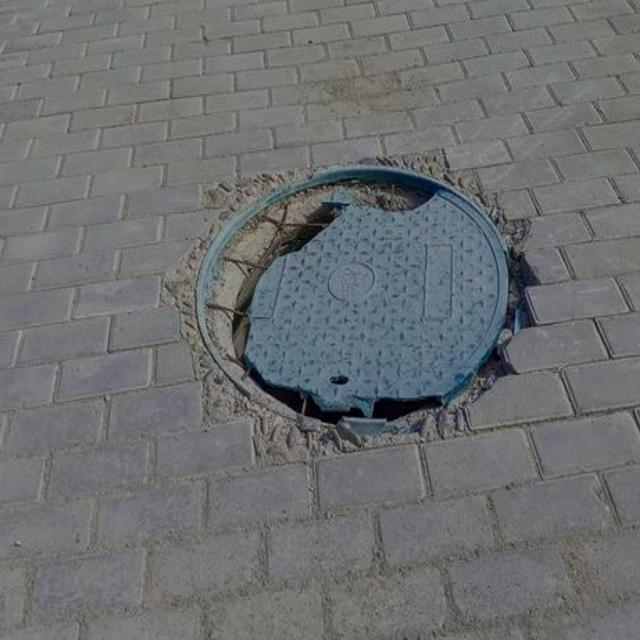broke: (163, 157, 549, 447)
